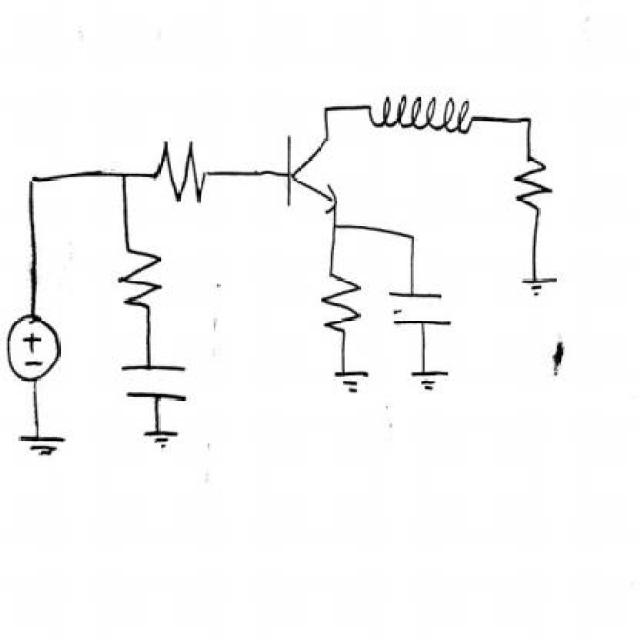capacitor: (117, 359, 207, 407), (383, 280, 456, 338)
ground: (142, 418, 218, 470), (14, 425, 74, 467), (408, 356, 460, 399), (516, 261, 564, 306), (331, 359, 378, 400)
inductor: (278, 122, 349, 219), (366, 82, 476, 142)
resistor: (146, 133, 216, 205), (113, 243, 167, 316), (508, 150, 560, 215), (322, 269, 366, 341)
voltage_source: (1, 313, 68, 394)
